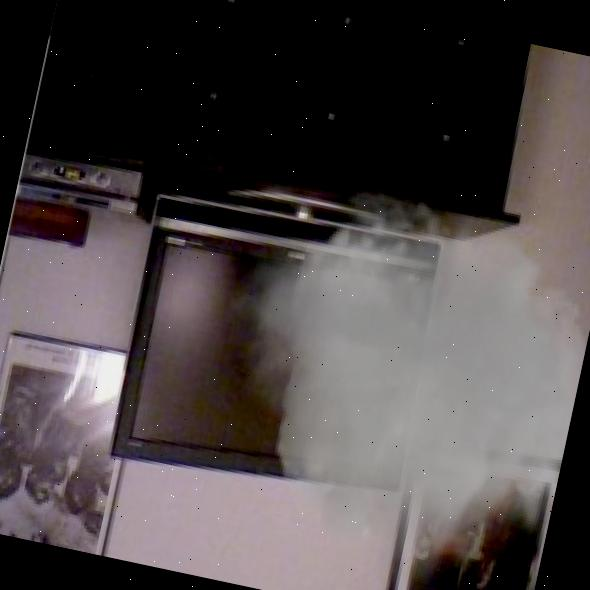smoke: (173, 147, 590, 590)
